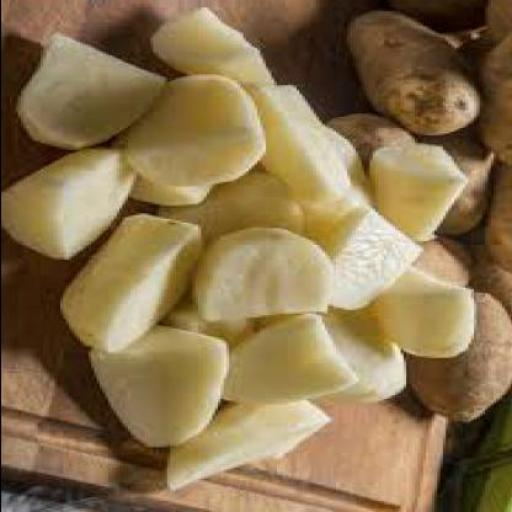biodegradable: (62, 214, 205, 352), (14, 36, 174, 154), (88, 326, 230, 449), (349, 12, 484, 137), (126, 78, 270, 189), (3, 150, 141, 264), (168, 402, 334, 494), (222, 313, 363, 408), (245, 86, 352, 206), (414, 293, 510, 426), (200, 230, 332, 325), (157, 174, 309, 253), (149, 8, 278, 88), (366, 146, 470, 242), (329, 212, 425, 314), (377, 271, 481, 362), (416, 134, 503, 240), (318, 312, 408, 406), (168, 304, 302, 351), (326, 117, 422, 172), (478, 36, 510, 170), (326, 128, 377, 209), (298, 195, 378, 244), (481, 165, 511, 276), (391, 2, 487, 35), (417, 241, 478, 289), (129, 178, 217, 208), (472, 263, 510, 319), (484, 1, 510, 54)
